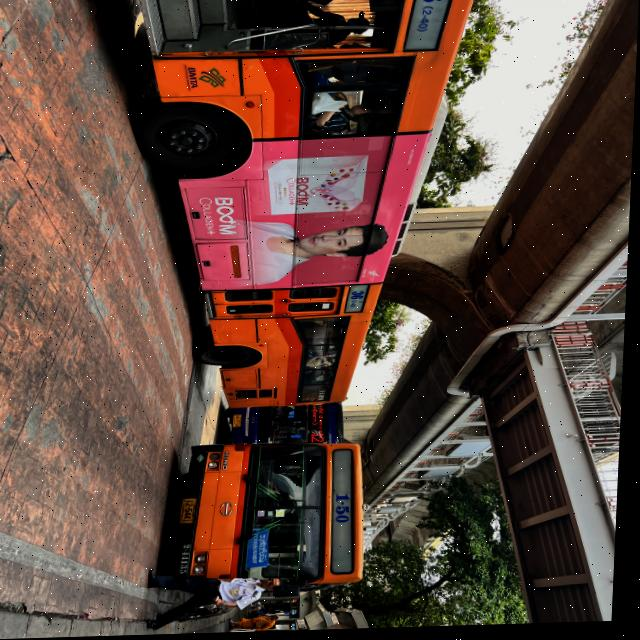BMTA-bus: (88, 0, 478, 415), (177, 442, 373, 598)
Bus-Line-Number: (338, 496, 357, 527), (310, 434, 332, 445)
Destination-Sign-Normal: (252, 530, 277, 570), (311, 404, 331, 435)
TSB-Bus: (224, 404, 351, 450)
